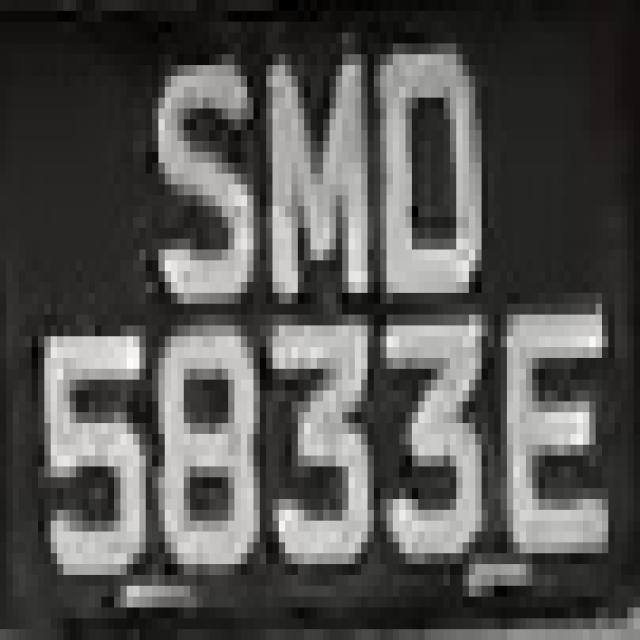3: (241, 314, 380, 575), (374, 293, 481, 596)
5: (32, 282, 158, 586)
8: (139, 293, 260, 575)
D: (361, 54, 482, 282)
E: (488, 271, 621, 597)
M: (247, 65, 393, 304)
S: (133, 22, 273, 358)
